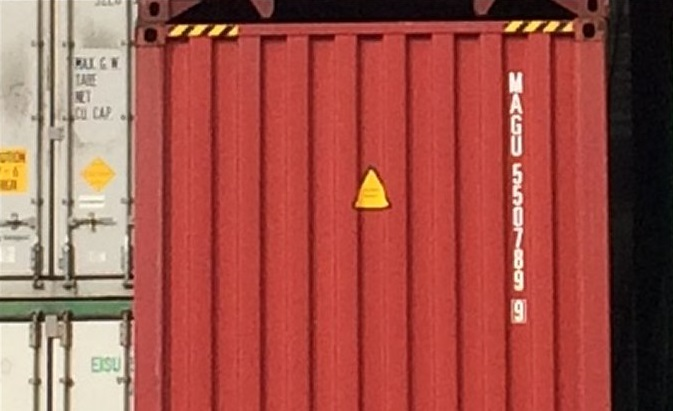container_no_door: (134, 18, 614, 411)
